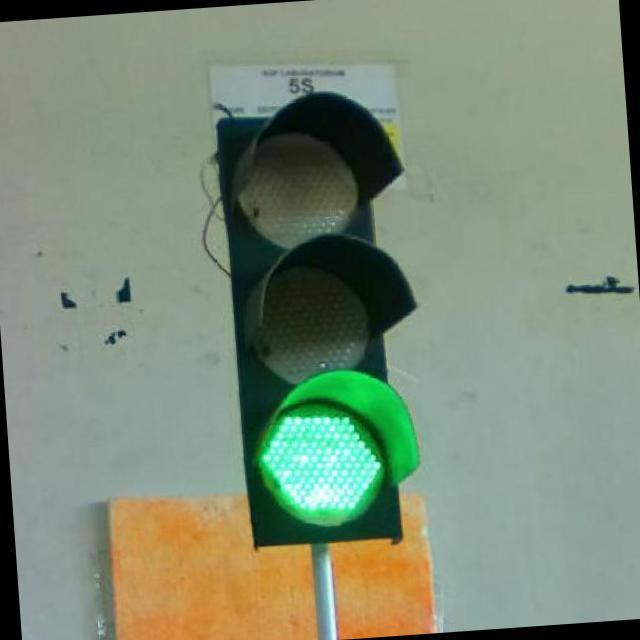green: (261, 381, 423, 536)
